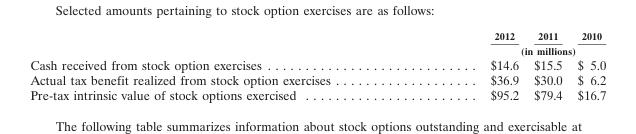table: (29, 29, 605, 102)
table column: (29, 29, 409, 102), (409, 29, 525, 102), (525, 29, 569, 102), (569, 29, 605, 102)
table column header: (29, 29, 605, 56)
table row: (29, 56, 605, 72), (29, 72, 605, 87), (29, 87, 605, 102), (29, 42, 605, 56), (29, 29, 605, 42)
table spanning cell: (409, 42, 605, 56)
